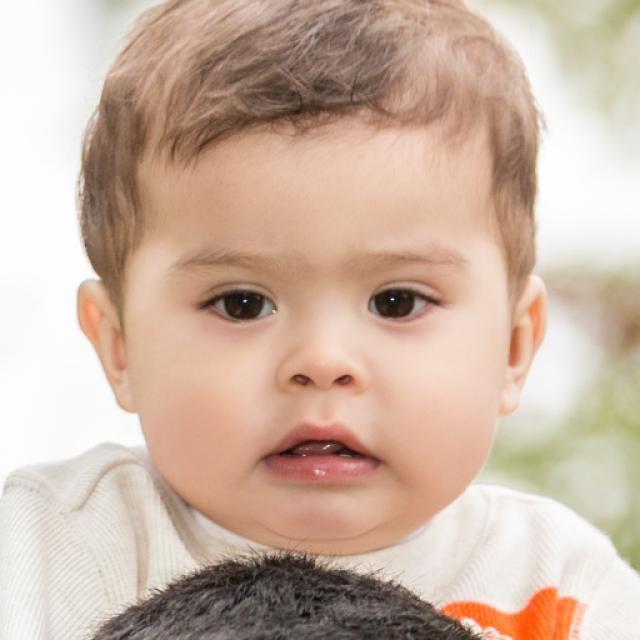neutral: (132, 95, 510, 544)
